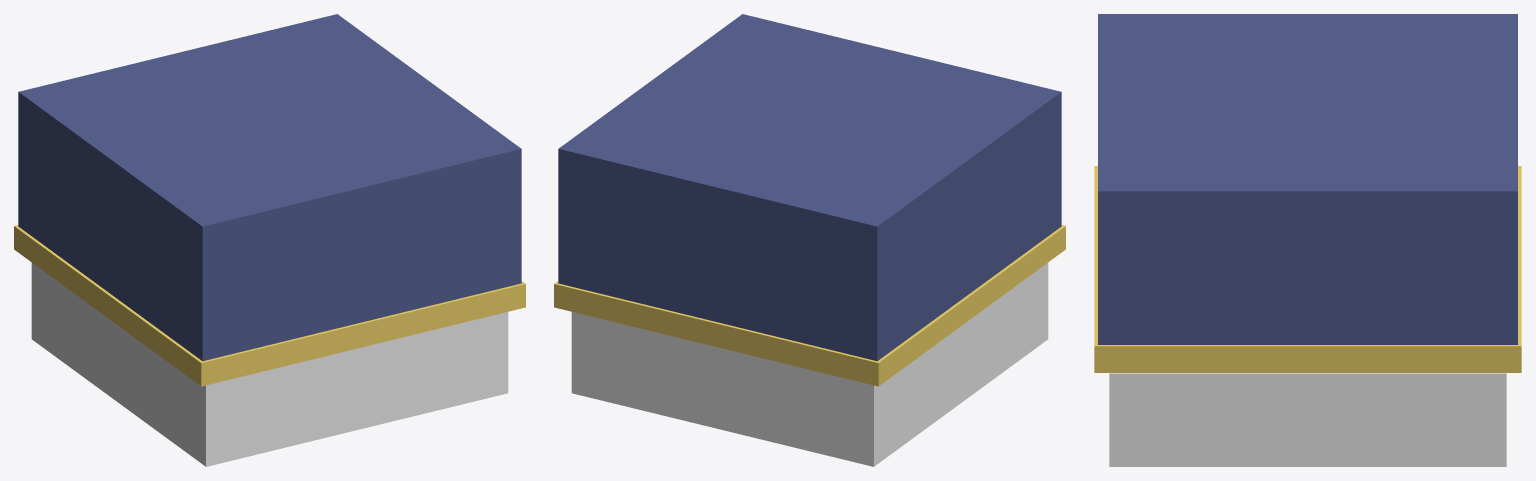
The model's file is escolar_manga_inf.glb.
The picture shows the model from 3 angles, left to right: view 1: azimuth 30°, elevation 25°; view 2: azimuth 150°, elevation 25°; view 3: azimuth 270°, elevation 25°; orthographic projection. The views are drawn at different scales.
Visible parts, largest first — view 1: escolar_manga_inf; view 2: escolar_manga_inf; view 3: escolar_manga_inf.
Part boxes in pixels (x1=…): escolar_manga_inf: x1=14, y1=14, x2=525, y2=466; escolar_manga_inf: x1=554, y1=14, x2=1065, y2=466; escolar_manga_inf: x1=1094, y1=14, x2=1521, y2=466.
Size of the model in its own units: 0.29 by 0.21 by 0.29.
